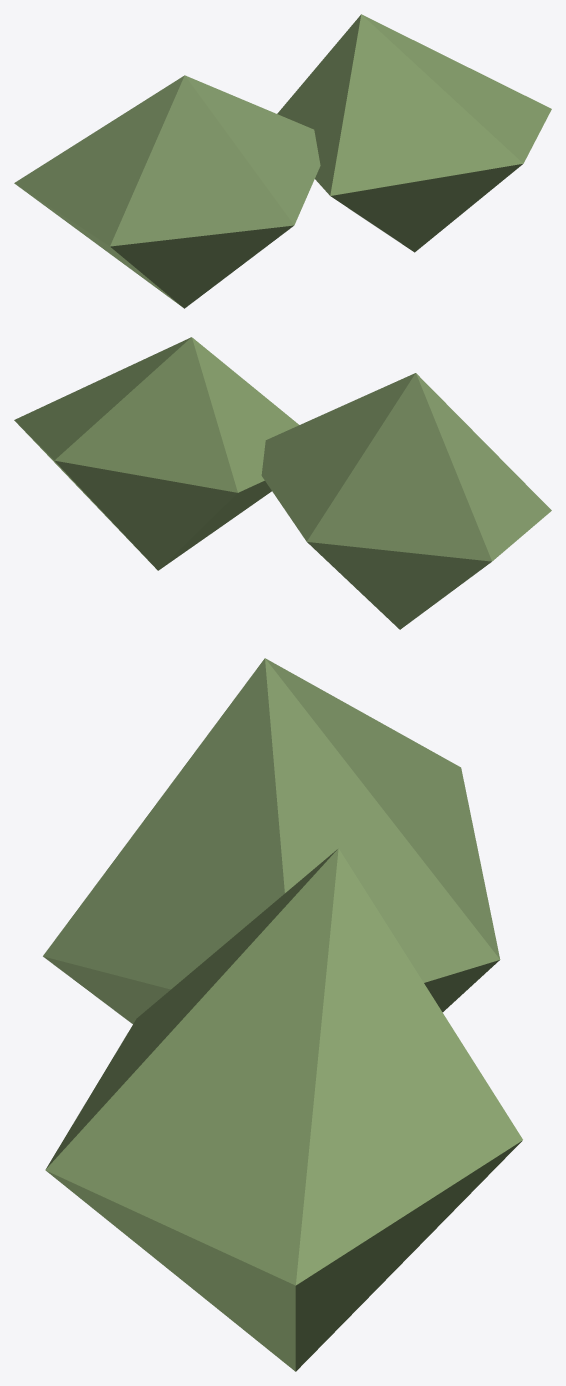
3 views of the same model, one above another, from view 1: azimuth 30°, elevation 25°; view 2: azimuth 150°, elevation 25°; view 3: azimuth 270°, elevation 25° (orthographic). The views are drawn at different scales.
Size of the model in its own units: 3.24 by 1.5 by 1.36.
